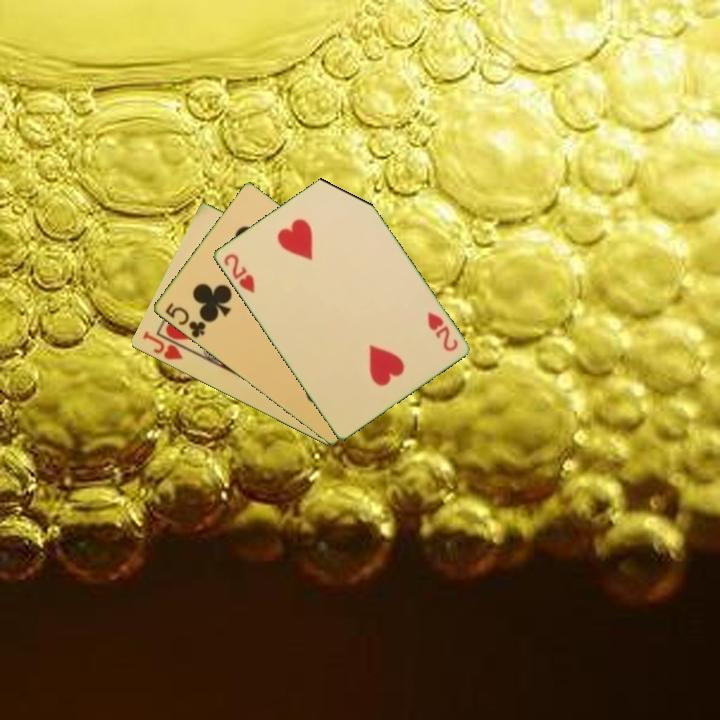2h: (423, 308, 461, 354), (220, 250, 257, 296)
5c: (161, 299, 209, 341)
Jh: (138, 328, 185, 363)
